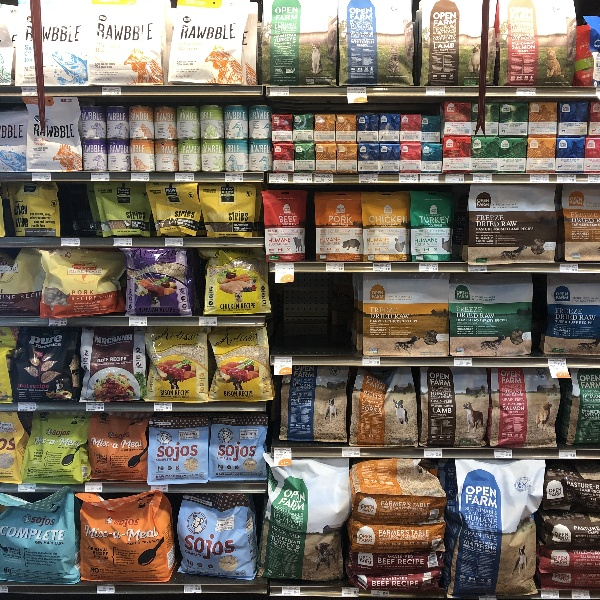void: (269, 271, 358, 355)
